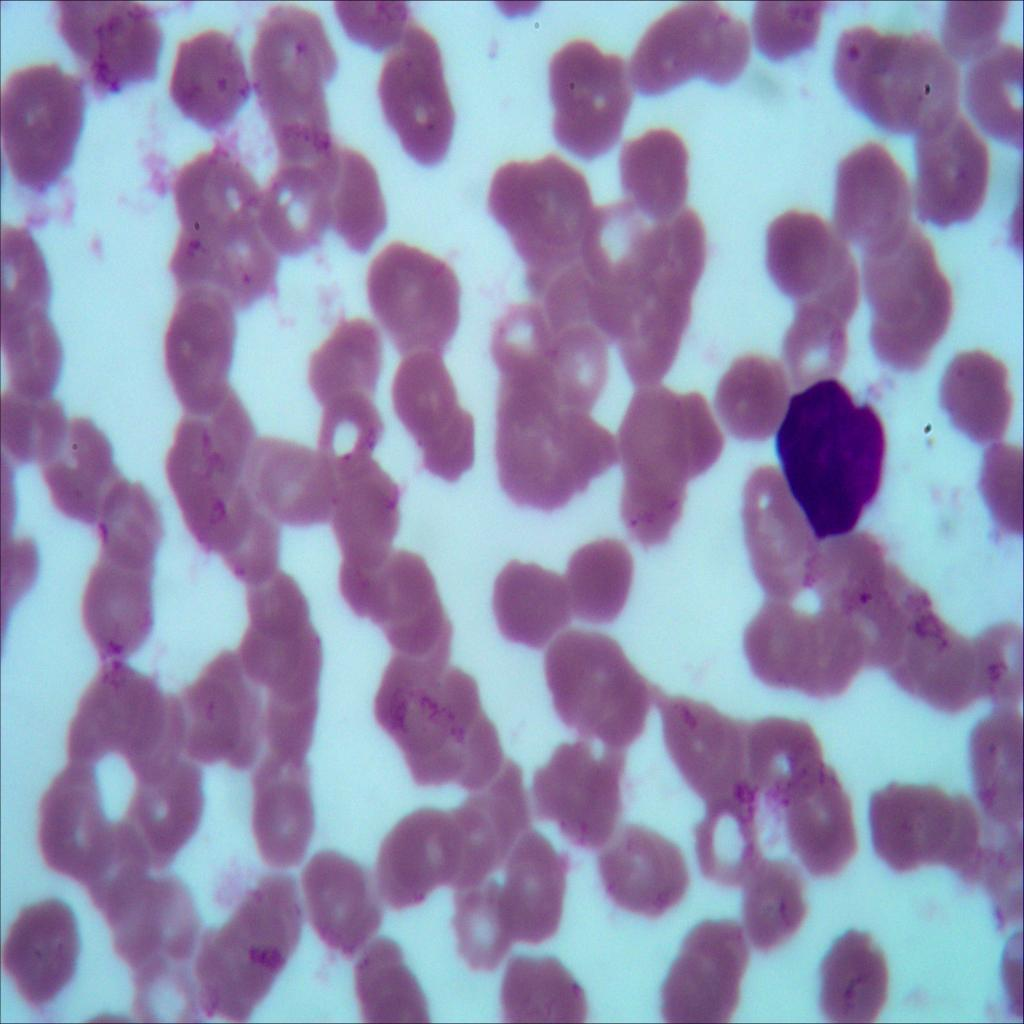Limfoblast: (773, 374, 889, 536)
